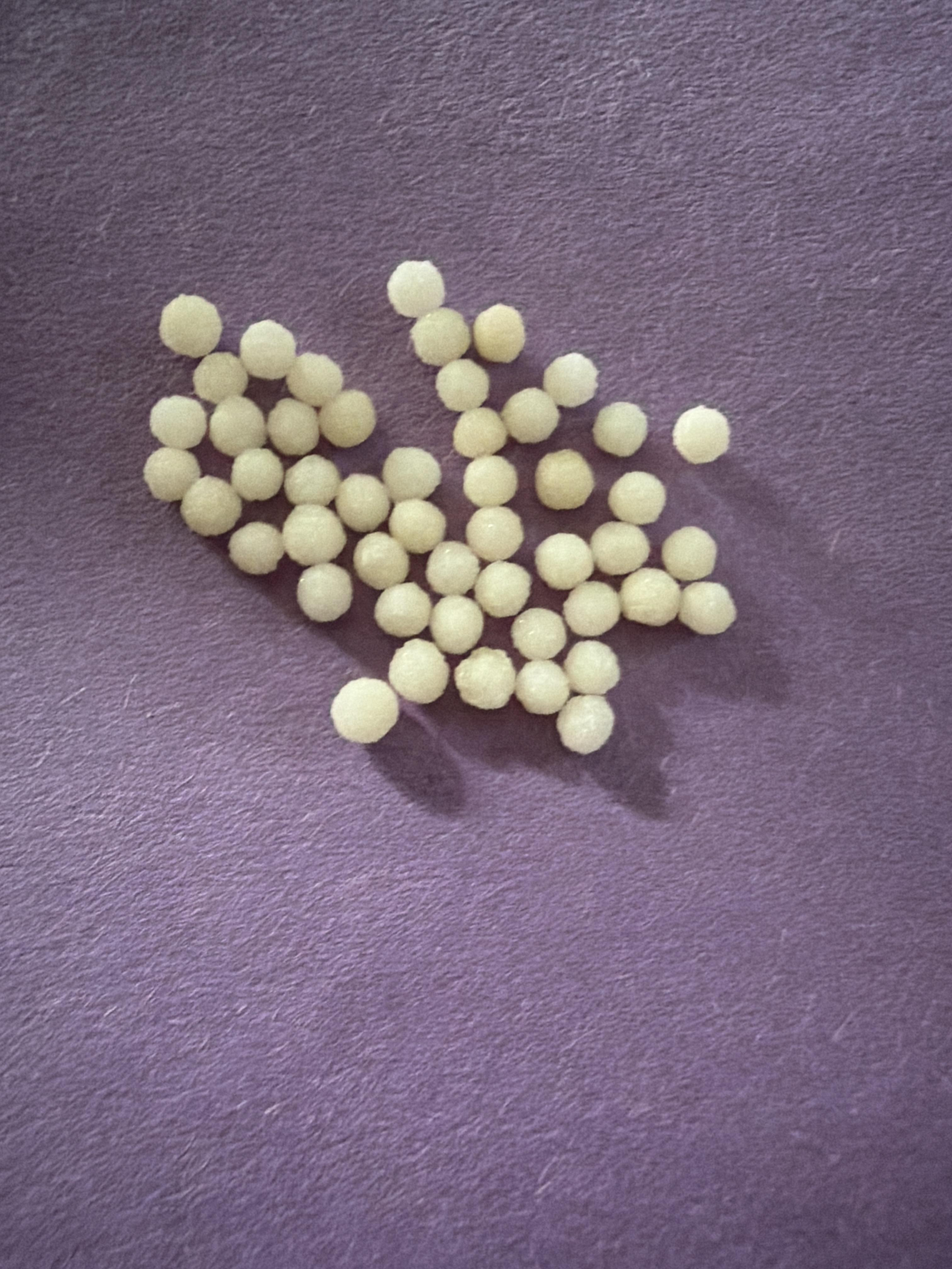pill: (330, 678, 399, 744), (159, 294, 222, 358), (282, 504, 346, 566), (388, 639, 449, 704), (454, 648, 516, 709), (181, 476, 242, 536), (535, 449, 594, 510), (410, 307, 470, 366), (620, 568, 681, 626), (209, 397, 267, 457), (239, 320, 296, 380), (387, 260, 445, 318), (535, 533, 594, 590), (672, 405, 729, 464), (590, 521, 650, 576), (297, 562, 352, 622), (335, 473, 390, 533), (474, 561, 531, 618), (374, 582, 432, 638), (557, 696, 613, 754), (465, 506, 524, 561), (429, 595, 484, 654), (320, 389, 375, 448), (563, 581, 620, 637), (501, 387, 558, 443), (353, 533, 409, 590), (383, 447, 440, 503), (286, 352, 343, 407), (388, 499, 446, 553), (143, 447, 201, 501), (677, 581, 736, 634), (473, 303, 525, 363), (564, 640, 620, 695), (661, 526, 717, 581), (515, 659, 570, 715), (608, 471, 666, 524), (592, 402, 647, 457), (150, 395, 206, 449), (267, 398, 319, 456), (435, 358, 490, 412), (228, 522, 284, 575), (426, 541, 480, 595), (543, 353, 597, 407), (511, 608, 567, 660), (464, 455, 518, 507), (193, 352, 248, 403), (284, 455, 340, 505), (231, 448, 284, 500), (454, 407, 508, 458)
